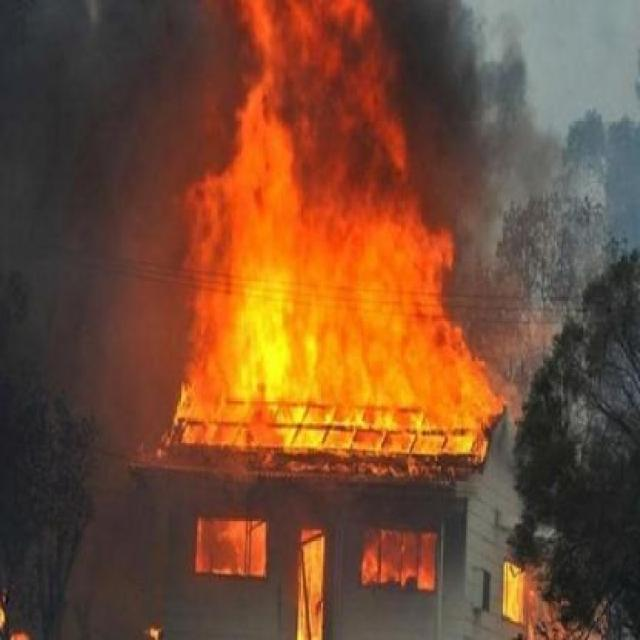Fire: (90, 72, 570, 620)
